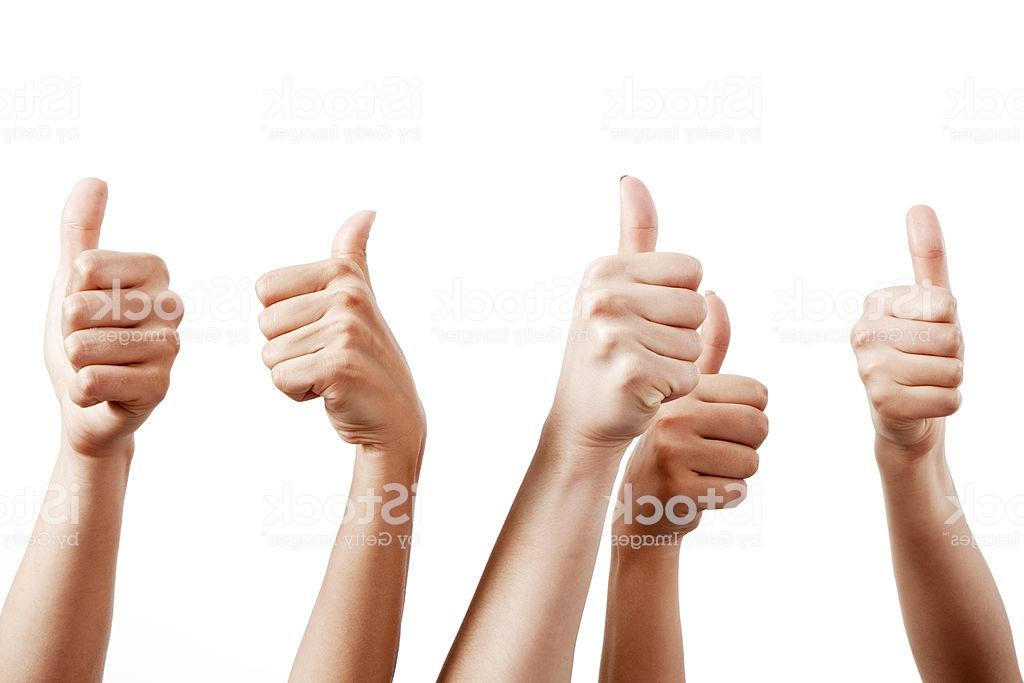thumbsup: (40, 176, 189, 450), (564, 172, 711, 438), (251, 206, 399, 427), (847, 203, 966, 440), (683, 288, 773, 523)
